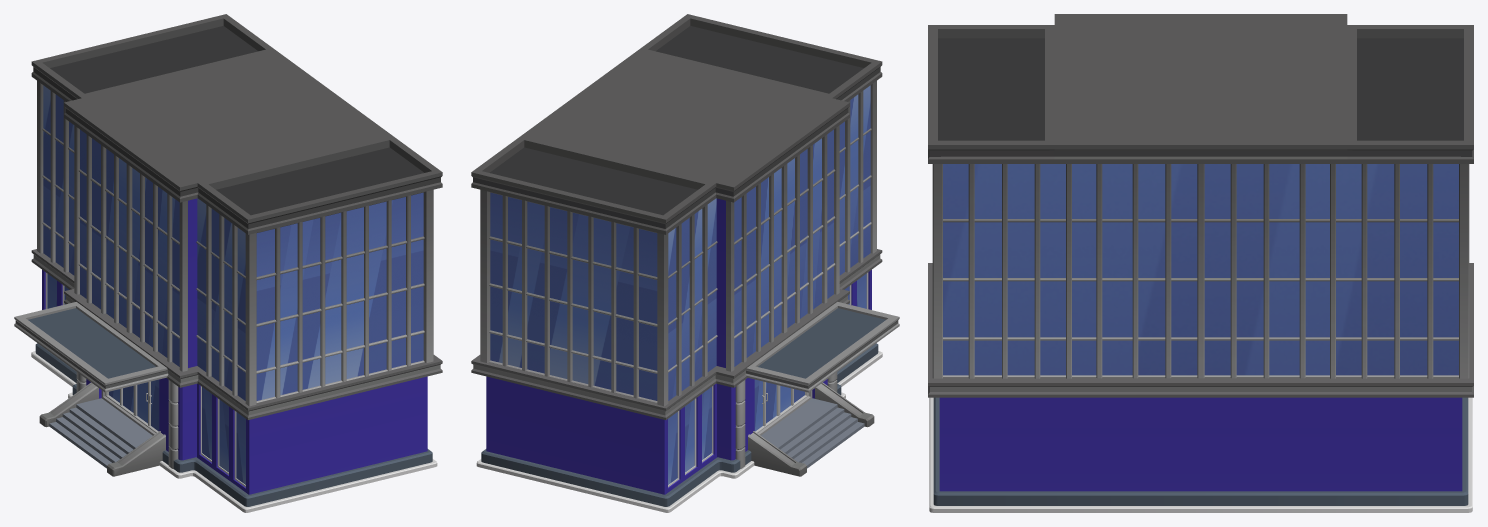
File: Building_17_1_CC.glb
3 views of the same model, side by side, from view 1: azimuth 30°, elevation 25°; view 2: azimuth 150°, elevation 25°; view 3: azimuth 270°, elevation 25° (orthographic). The views are drawn at different scales.
Visible parts, largest first — view 1: Building_17_1_CC; view 2: Building_17_1_CC; view 3: Building_17_1_CC.
Part boxes in pixels (x1,y1,x2,y2): Building_17_1_CC: (14, 14, 442, 512); Building_17_1_CC: (471, 14, 899, 512); Building_17_1_CC: (928, 14, 1473, 512).
Bounding box in the file's own units: 8.57 × 8.75 × 11.68.
Materials: 4 (4 with a texture image).
